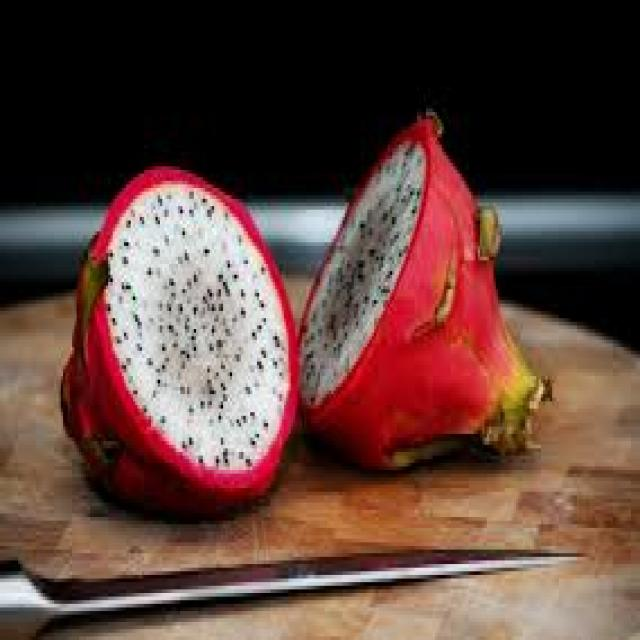organic waste: (295, 105, 552, 470), (56, 159, 298, 514)
